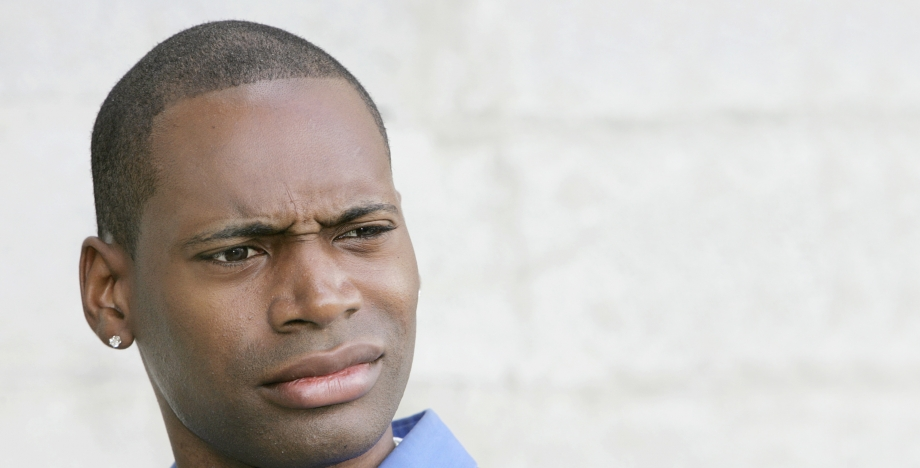angry: (165, 159, 439, 452)
